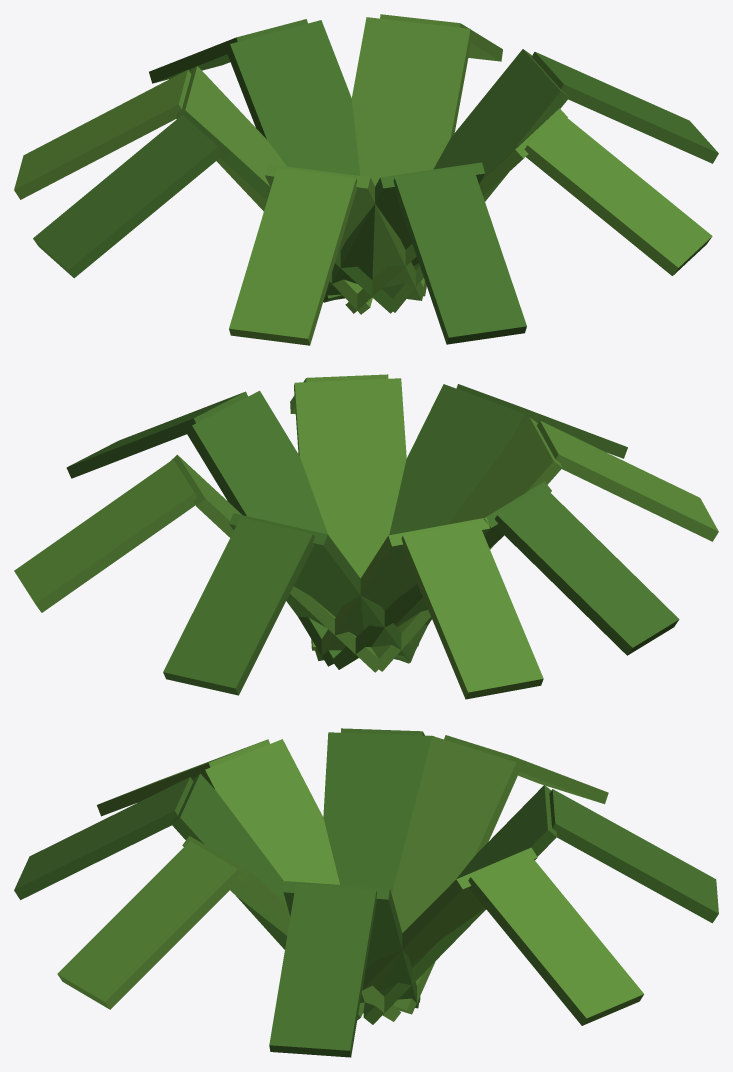
File: forest_fern.glb
3 renders of one model, top to bottom at view 1: azimuth 30°, elevation 25°; view 2: azimuth 150°, elevation 25°; view 3: azimuth 270°, elevation 25°, orthographic.
Visible parts, largest first — view 1: forest_fern; view 2: forest_fern; view 3: forest_fern.
Boxes of the visible parts, <box> form: forest_fern: <box>14,14,718,345</box>; forest_fern: <box>14,374,718,699</box>; forest_fern: <box>14,728,718,1057</box>.
Bounding box in the file's own units: 1.73 × 0.5228 × 1.72.
